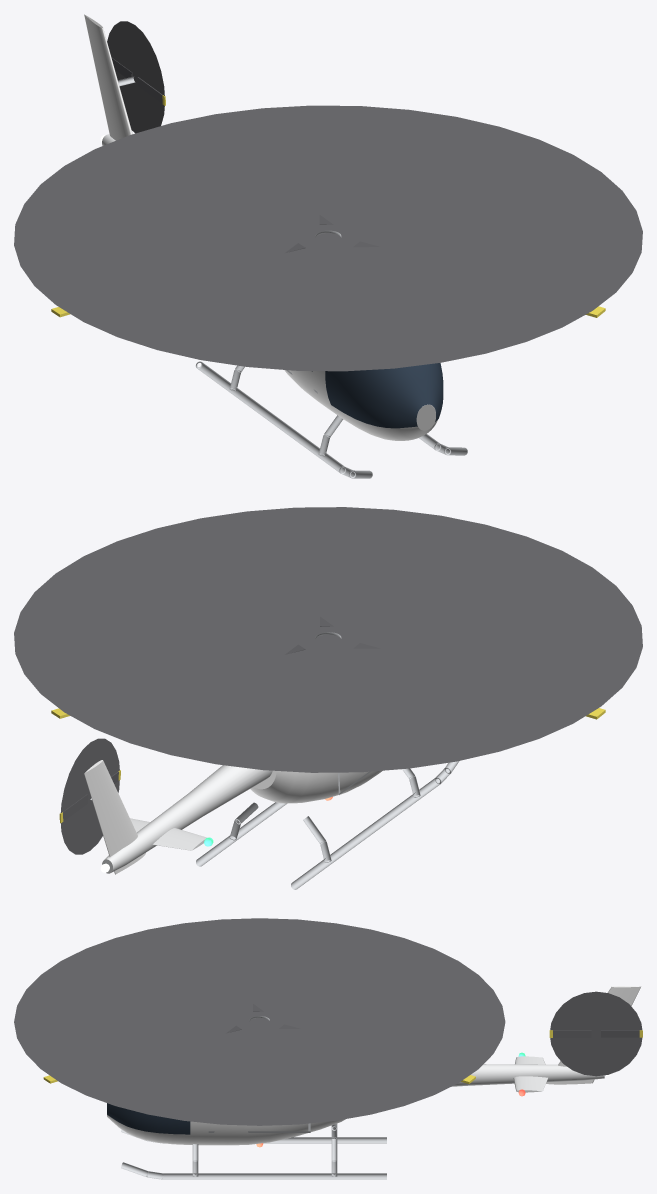
The picture shows the model from 3 angles, top to bottom: view 1: azimuth 30°, elevation 25°; view 2: azimuth 150°, elevation 25°; view 3: azimuth 270°, elevation 25°; orthographic projection. The views are drawn at different scales.
Visible parts, largest first — view 1: airframe; view 2: airframe, rotor; view 3: airframe, tail.
Part boxes in pixels (bbox=[...]): airframe: bbox=[14, 14, 642, 478]; airframe: bbox=[14, 507, 642, 889]; rotor: bbox=[51, 616, 605, 719]; airframe: bbox=[14, 918, 642, 1179]; tail: bbox=[549, 1030, 642, 1037].
Bounding box in the file's own units: 10.7 × 4.28 × 13.69.
